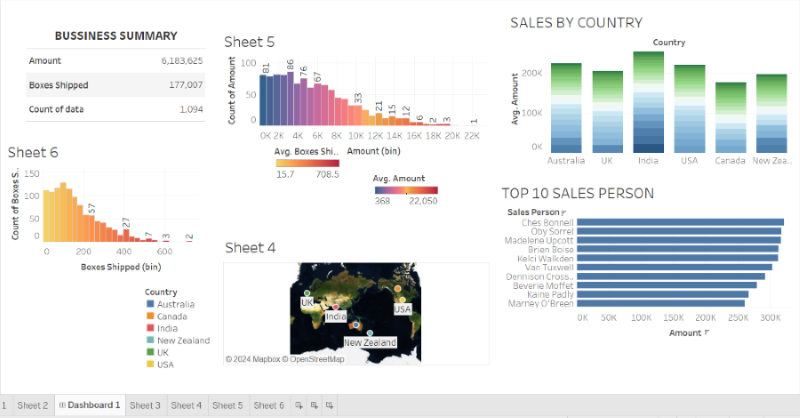

The page's visual inventory and layout, read from the dashboard file:
{"tool":"tableau","page":{"name":"Dashboard 1","canvas":[1000,1000],"units":"permille","ordinal":0},"visuals":[{"type":"worksheet","title":"Sheet 1","mark":"Automatic","rows":["Amount"],"cols":["Country"],"box":[635.8,24.4,355.8,398.5]},{"type":"worksheet","title":"Sheet 3","mark":"Automatic","box":[32.5,63.6,224.8,244.5]},{"type":"worksheet","title":"Sheet 5","mark":"Bar","rows":["Amount"],"cols":["Amount (bin)"],"box":[277.6,73.4,332.9,332.5]},{"type":"worksheet","title":"Sheet 6","mark":"Automatic","rows":["Boxes Shipped"],"cols":["Boxes Shipped (bin)"],"box":[6.6,354.5,242.2,346]},{"type":"legend","title":"Sheet 6","param":"[federated.0iydlwk0ws79bn10bbt2d16tmmny].[avg:Boxes Shipped:qk]","box":[343.2,368,84.1,122.2]},{"type":"legend","title":"Sheet 5","param":"[federated.0iydlwk0ws79bn10bbt2d16tmmny].[avg:Amount:qk]","box":[466.4,436.4,84.1,122.2]},{"type":"worksheet","title":"Sheet 2","mark":"Automatic","rows":["Sales Person"],"cols":["Amount"],"box":[625,458.4,369,409.5]},{"type":"worksheet","title":"Sheet 4","mark":"Automatic","box":[278.9,596.6,332.9,332.5]},{"type":"legend","title":"Sheet 4","param":"[federated.0iydlwk0ws79bn10bbt2d16tmmny].[none:Country:nk]","box":[180.9,724.9,84.7,215.2]}]}

Visuals, with their boxes on the dashboard's canvas, which has no fixed pixel size, in thousandths of its width and height (x1, y1, x2, y2). These are canvas units, not pixel positions in the 800x418 screenshot, which may show the page scaled, cropped or inside an application window:
"Sheet 1" worksheet: <region>636, 24, 992, 423</region>
"Sheet 3" worksheet: <region>32, 64, 257, 308</region>
"Sheet 5" worksheet (Bar marks): <region>278, 73, 610, 406</region>
"Sheet 6" worksheet: <region>7, 354, 249, 700</region>
"Sheet 6" legend: <region>343, 368, 427, 490</region>
"Sheet 5" legend: <region>466, 436, 550, 559</region>
"Sheet 2" worksheet: <region>625, 458, 994, 868</region>
"Sheet 4" worksheet: <region>279, 597, 612, 929</region>
"Sheet 4" legend: <region>181, 725, 266, 940</region>
